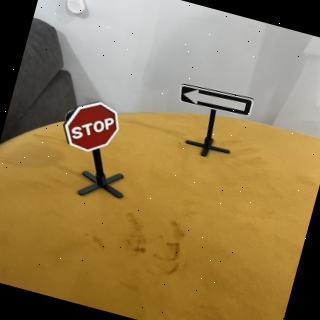sign_oneway_left: (173, 78, 256, 122)
sign_stop: (57, 93, 127, 161)
